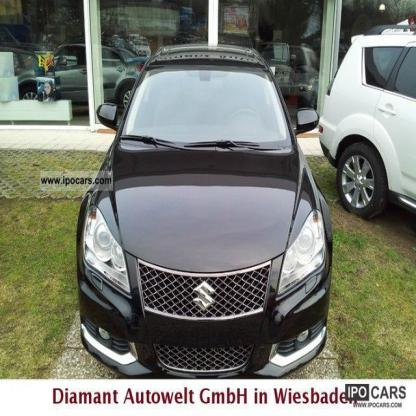Vehicle: (76, 46, 334, 380)
